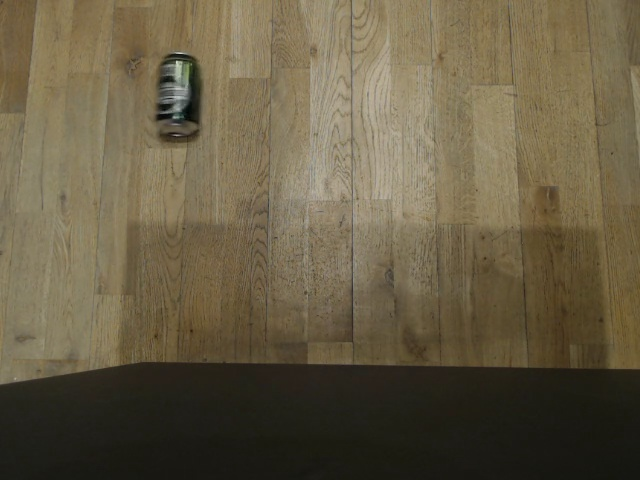beer: (153, 48, 203, 141)
